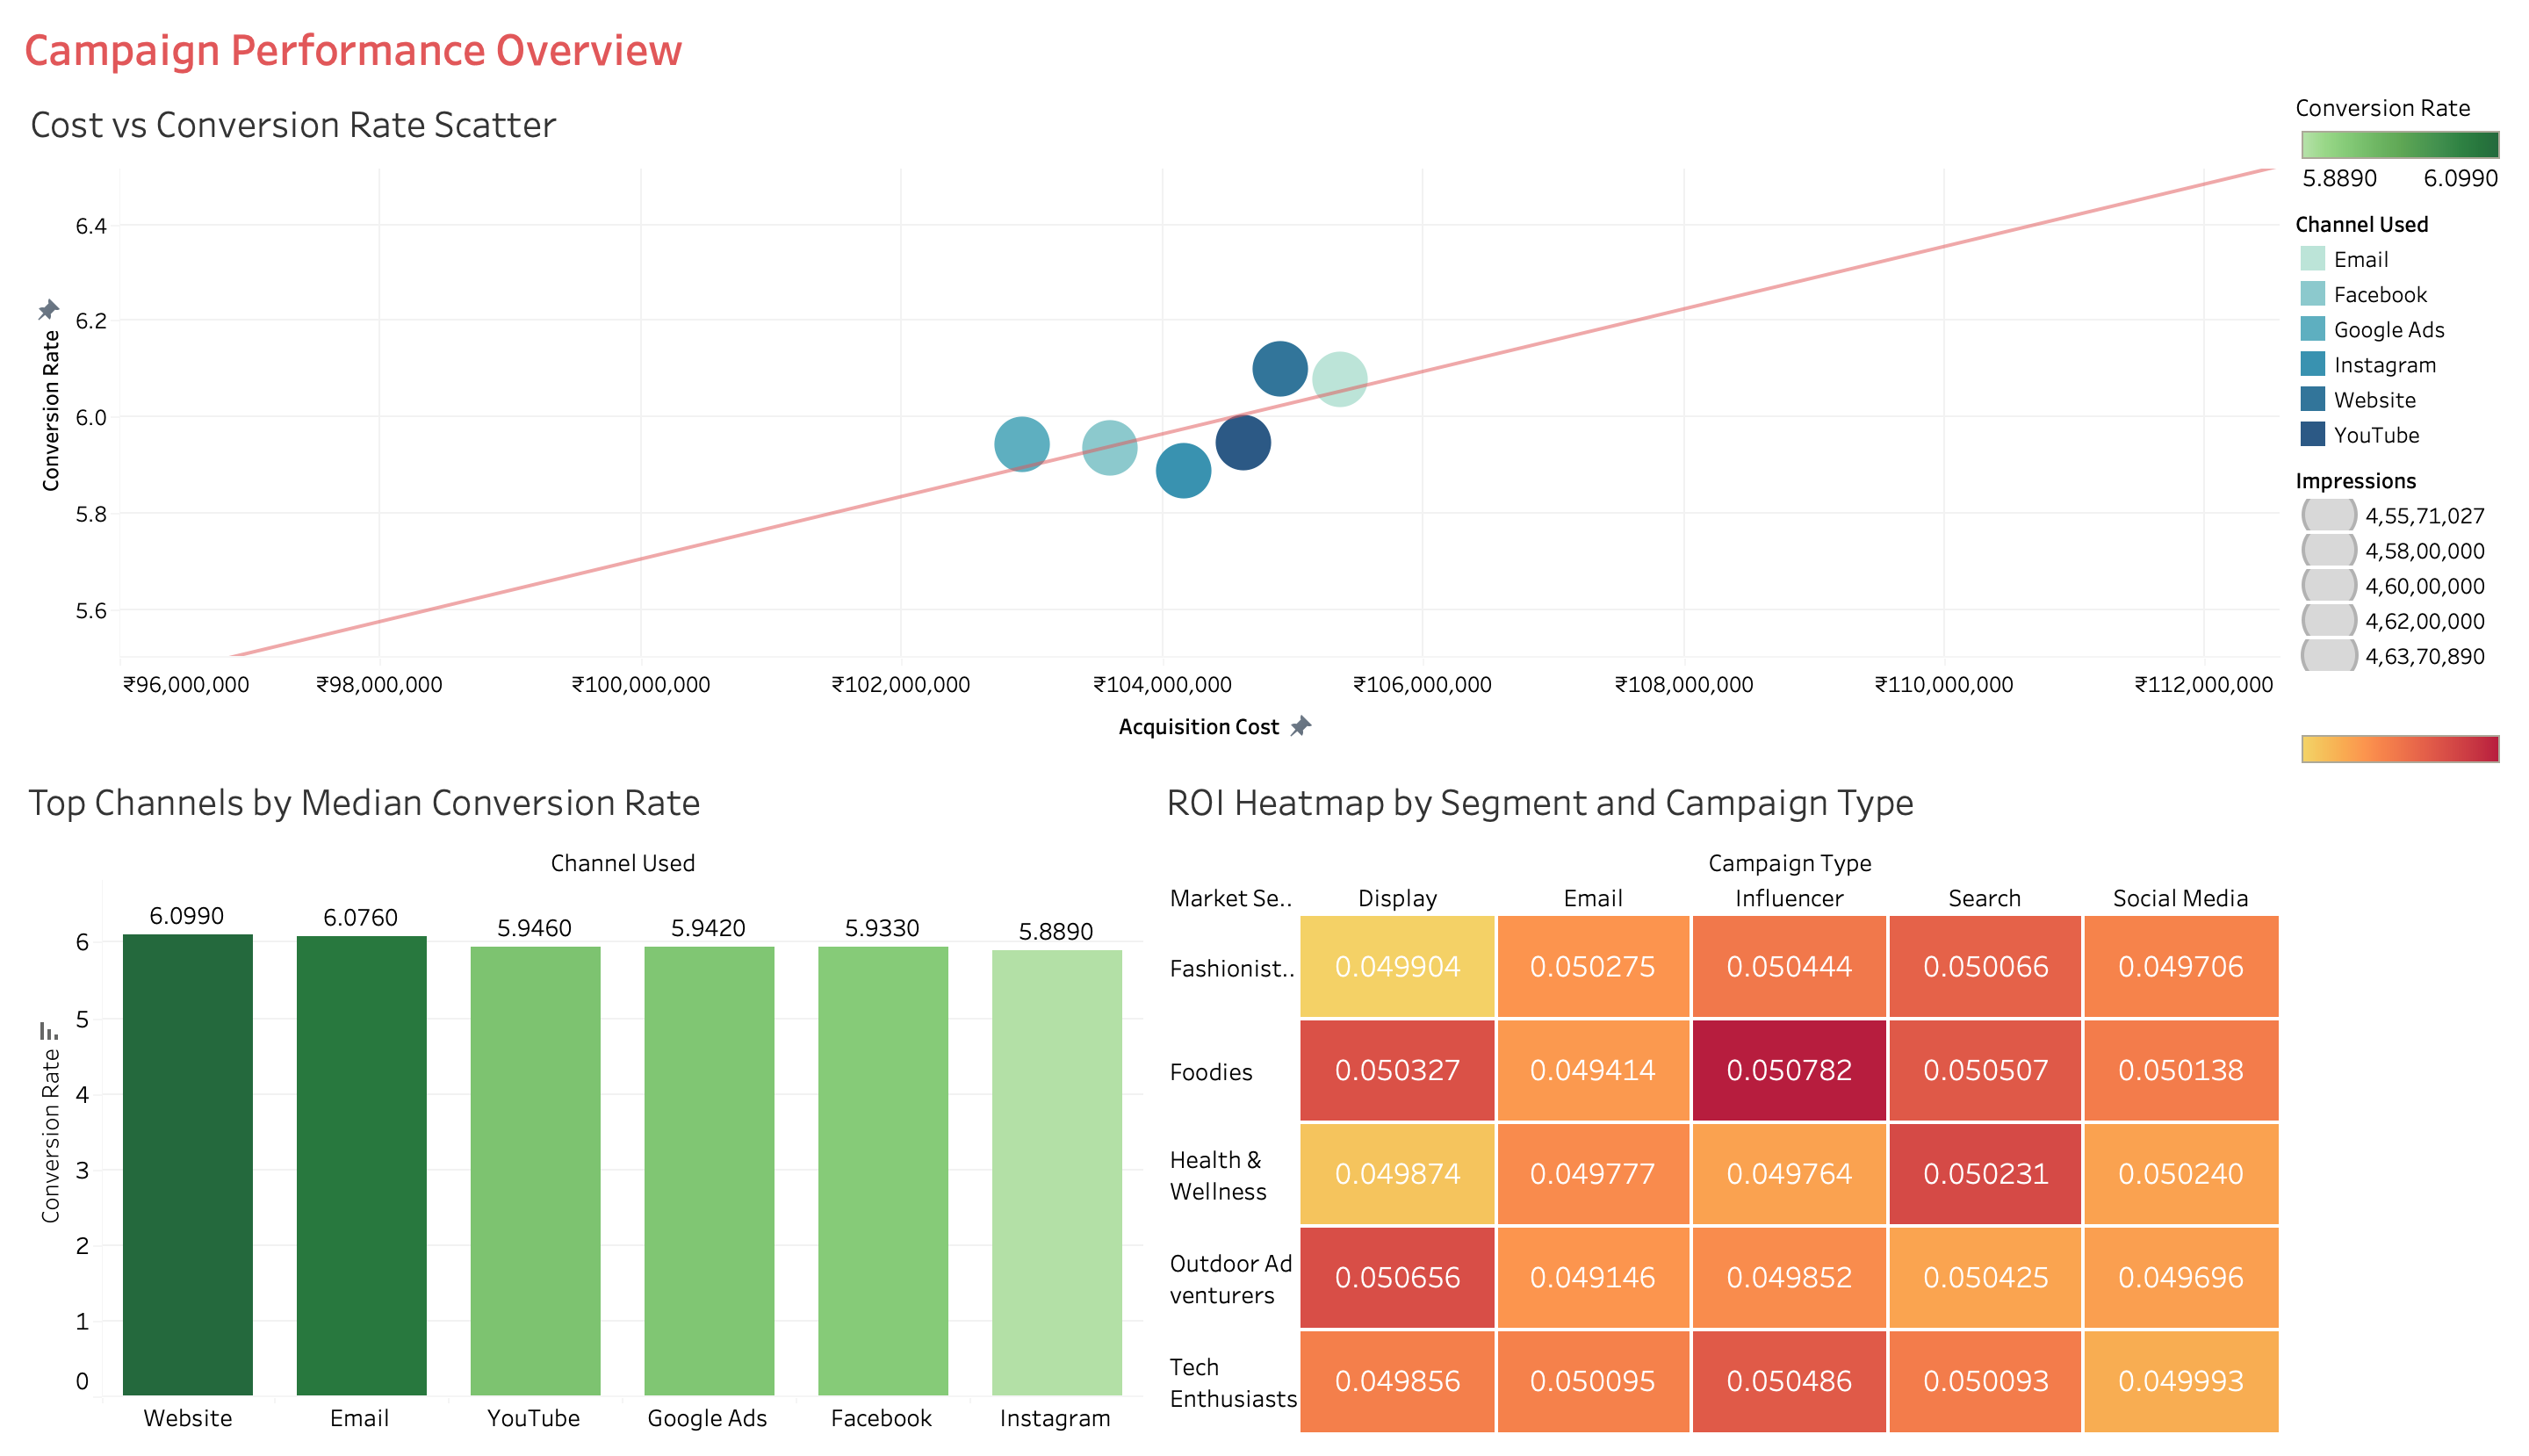

What the dashboard file says about the page in this screenshot:
{"tool":"tableau","page":{"name":"Campaign Performance Overview","canvas":[1000,1000],"units":"permille","ordinal":0},"visuals":[{"type":"title","box":[6.5,10.4,987,53.4]},{"type":"worksheet","title":"Cost vs Conversion Rate Scatter","mark":"Circle","rows":["conversion_rate"],"cols":["acquisition_cost"],"box":[6.5,63.8,882,462.9]},{"type":"legend","title":"Top Channels by Median Conversion Rate","param":"[federated.1gj32ki0jplnk71fu9m5q1narova].[sum:conversion_rate:qk]","box":[888.5,63.8,105,87.2]},{"type":"legend","title":"Cost vs Conversion Rate Scatter","param":"[federated.1gj32ki0jplnk71fu9m5q1narova].[none:channel_used:nk]","box":[888.5,151.1,105,190.1]},{"type":"legend","title":"Cost vs Conversion Rate Scatter","param":"[federated.1gj32ki0jplnk71fu9m5q1narova].[sum:impressions:qk]","box":[888.5,341.2,105,164.1]},{"type":"legend","title":"ROI Heatmap by Segment and Campaign Type","param":"[federated.1gj32ki0jplnk71fu9m5q1narova].[sum:roi:qk]","box":[888.5,505.2,105,100.3]},{"type":"worksheet","title":"Top Channels by Median Conversion Rate","mark":"Bar","rows":["conversion_rate"],"cols":["channel_used"],"box":[6.5,526.7,441,462.9]},{"type":"worksheet","title":"ROI Heatmap by Segment and Campaign Type","mark":"Square","rows":["market_segment"],"cols":["campaign_type"],"box":[447.5,526.7,441,462.9]}]}

Visuals, with their boxes on the dashboard's canvas, which has no fixed pixel size, in thousandths of its width and height (x1, y1, x2, y2). These are canvas units, not pixel positions in the 2529x1456 screenshot, which may show the page scaled, cropped or inside an application window:
title: locate(6, 10, 994, 64)
"Cost vs Conversion Rate Scatter" worksheet (Circle marks): locate(6, 64, 888, 527)
"Top Channels by Median Conversion Rate" legend: locate(888, 64, 994, 151)
"Cost vs Conversion Rate Scatter" legend: locate(888, 151, 994, 341)
"Cost vs Conversion Rate Scatter" legend: locate(888, 341, 994, 505)
"ROI Heatmap by Segment and Campaign Type" legend: locate(888, 505, 994, 606)
"Top Channels by Median Conversion Rate" worksheet (Bar marks): locate(6, 527, 448, 990)
"ROI Heatmap by Segment and Campaign Type" worksheet (Square marks): locate(448, 527, 888, 990)
